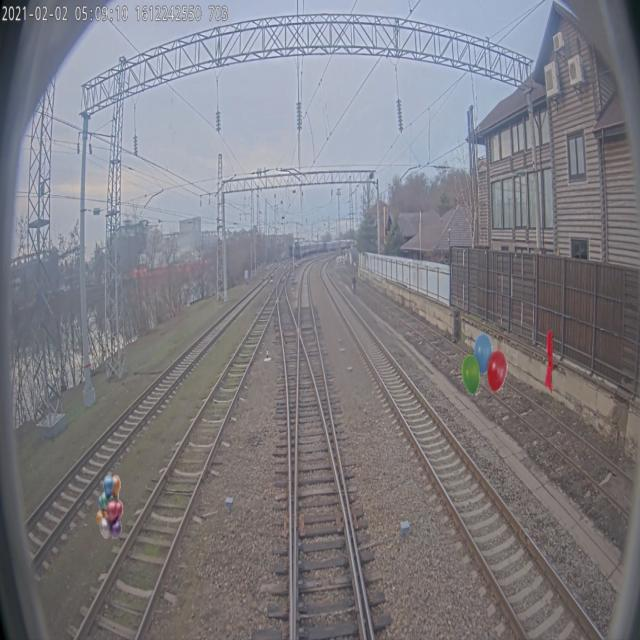balloon: (462, 332, 508, 396), (96, 474, 123, 538)
floating object: (545, 329, 554, 393)
